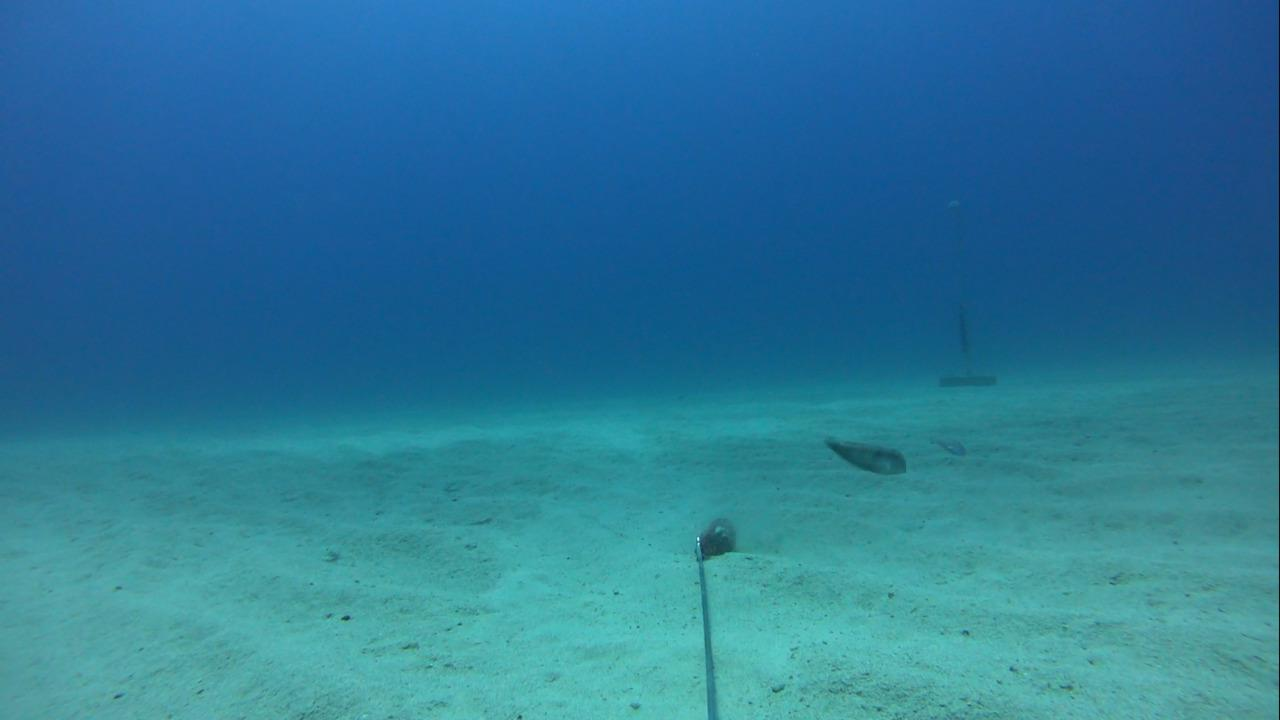raor: (808, 428, 913, 475), (926, 428, 977, 469)
